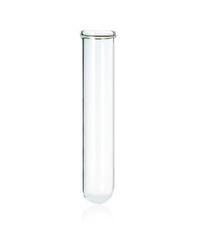Test tube: (77, 18, 120, 207)
